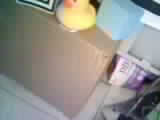duck: (52, 0, 106, 35)
